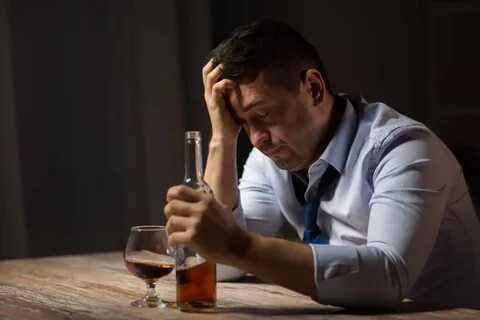sleep: (164, 18, 479, 310)
